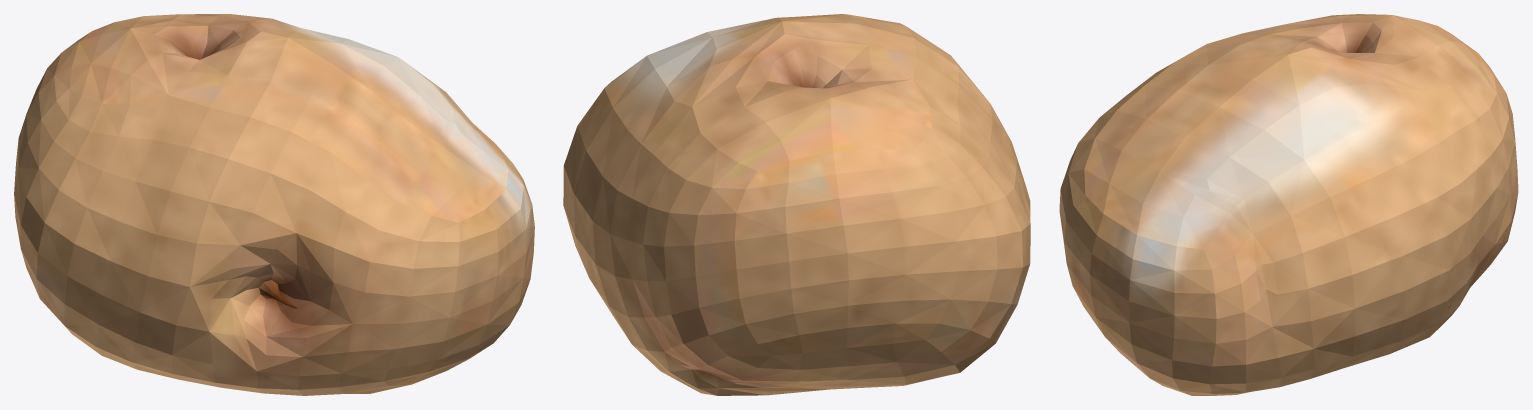
File: popotato.obj
3 renders of one model, left to right at view 1: azimuth 30°, elevation 25°; view 2: azimuth 150°, elevation 25°; view 3: azimuth 270°, elevation 25°, orthographic. The views are drawn at different scales.
Visible parts, largest first — view 1: Potato_03; view 2: Potato_03; view 3: Potato_03.
Part boxes in pixels (x1,y1,x2,y2): Potato_03: [14, 14, 534, 395]; Potato_03: [563, 14, 1030, 395]; Potato_03: [1059, 14, 1518, 395].
Bounding box in the file's own units: 3.79 × 2.6 × 3.67.
Materials: 1 (1 with a texture image).
